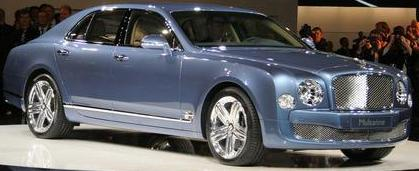front_view: (277, 71, 414, 150)
headlight: (278, 79, 325, 111)
side_glass: (62, 7, 189, 55)
